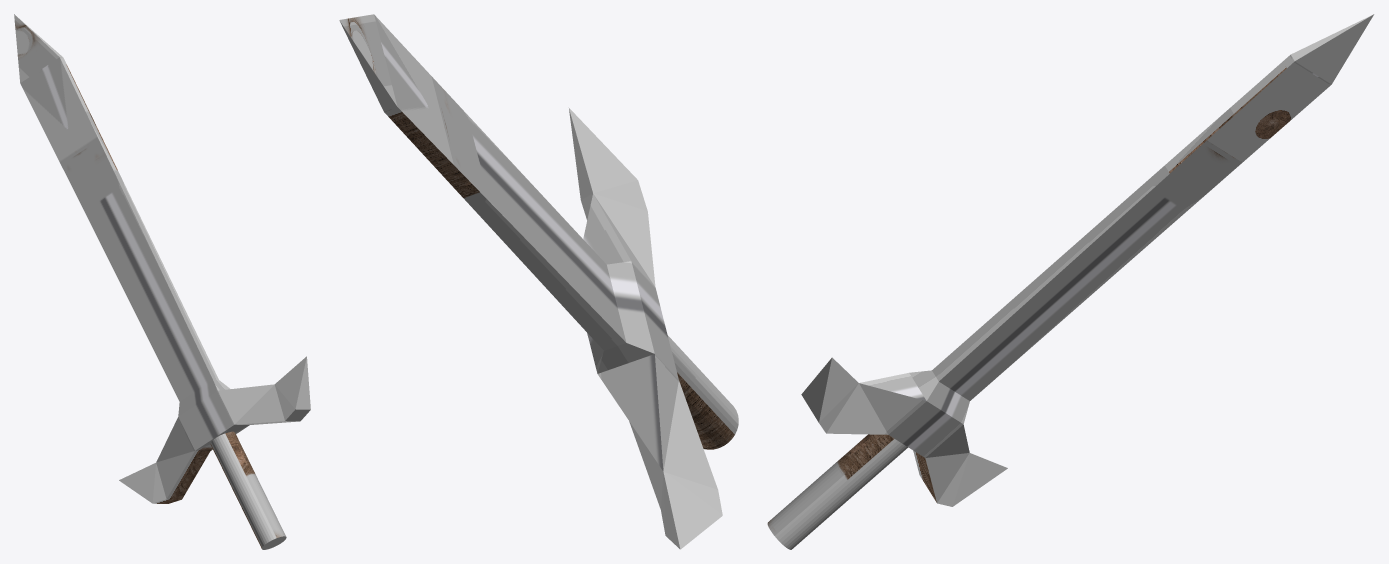
Rendered from Protagonista120.obj.
The picture shows the model from 3 angles, left to right: view 1: azimuth 30°, elevation 25°; view 2: azimuth 150°, elevation 25°; view 3: azimuth 270°, elevation 25°; orthographic projection. The views are drawn at different scales.
Visible parts, largest first — view 1: Cube; view 2: Cube; view 3: Cube.
Part boxes in pixels (x1,y1,x2,y2): Cube: (14,14,310,549); Cube: (339,14,738,549); Cube: (767,14,1374,549).
Bounding box in the file's own units: 0.4039 × 1.21 × 1.31.
1 material, 1 textured.
